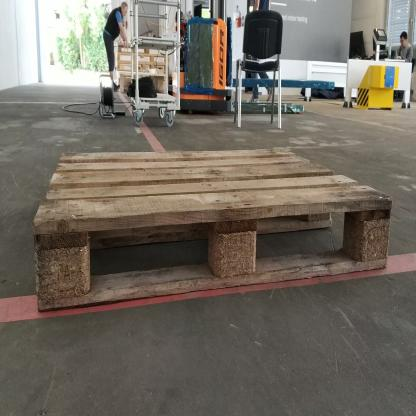BoxFace: (28, 143, 398, 318)
